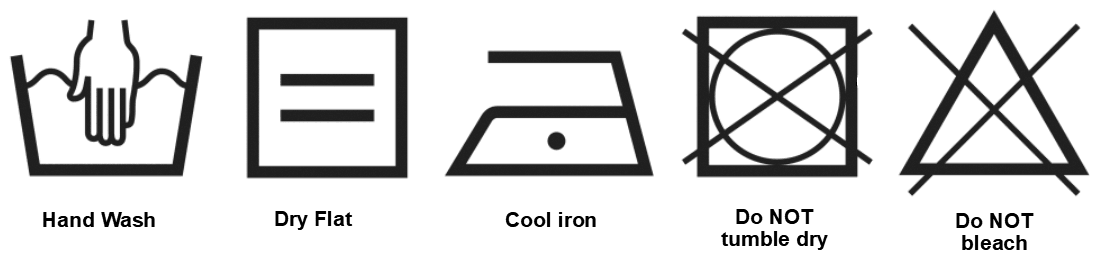do_not_bleach: (892, 9, 1101, 200)
